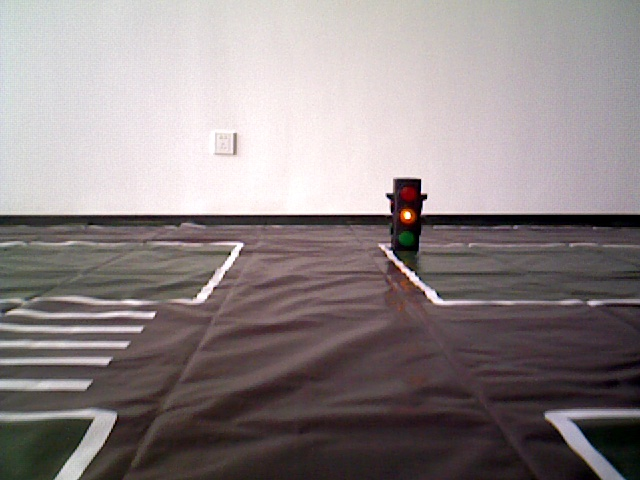yellow: (386, 176, 426, 253)
